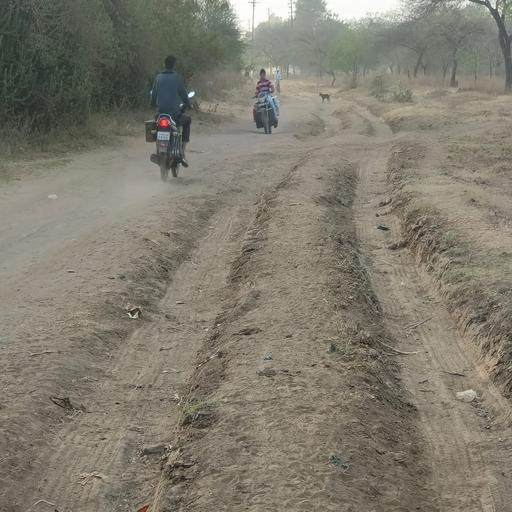vehicle_track: (9, 155, 302, 512), (352, 150, 512, 512), (0, 169, 164, 304)
